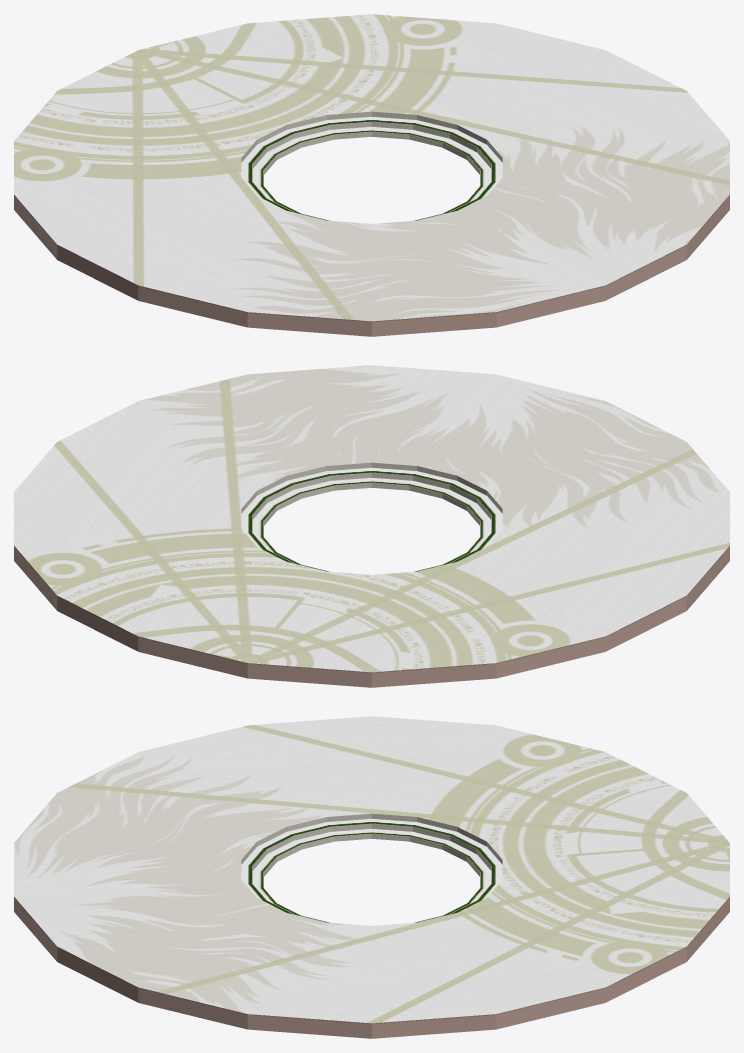
The model's file is stage03_ground.FBX.
The picture shows the model from 3 angles, top to bottom: view 1: azimuth 30°, elevation 25°; view 2: azimuth 150°, elevation 25°; view 3: azimuth 270°, elevation 25°; orthographic projection.
Parts seen in each view (by area): view 1: Ground; view 2: Ground; view 3: Ground.
Boxes of the visible parts, box(x1,y1,x2,y2) form: Ground: box(14, 14, 729, 336); Ground: box(14, 365, 729, 687); Ground: box(14, 716, 729, 1038).
Size of the model in its own units: 2032 by 47.62 by 2001.
